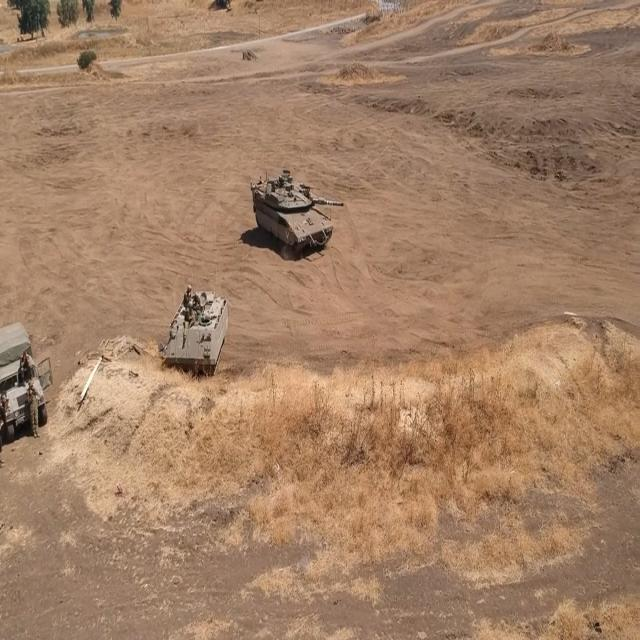tank: (243, 162, 351, 263)
